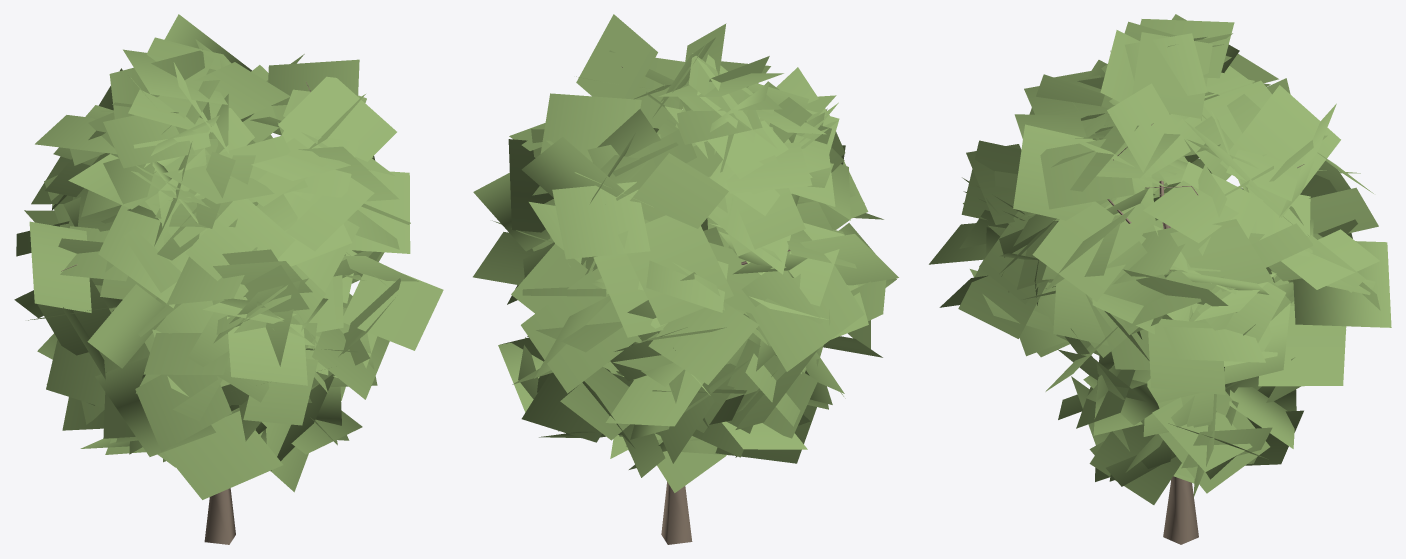
File: Maple_2_lod2.glb
3 renders of one model, left to right at view 1: azimuth 30°, elevation 25°; view 2: azimuth 150°, elevation 25°; view 3: azimuth 270°, elevation 25°, orthographic.
Visible parts, largest first — view 1: Maple_2_lod2; view 2: Maple_2_lod2; view 3: Maple_2_lod2.
Part boxes in pixels (x1,y1,x2,y2): Maple_2_lod2: [14, 14, 443, 544]; Maple_2_lod2: [473, 14, 898, 544]; Maple_2_lod2: [929, 14, 1391, 544].
Bounding box in the file's own units: 17.43 × 21.86 × 18.38.
